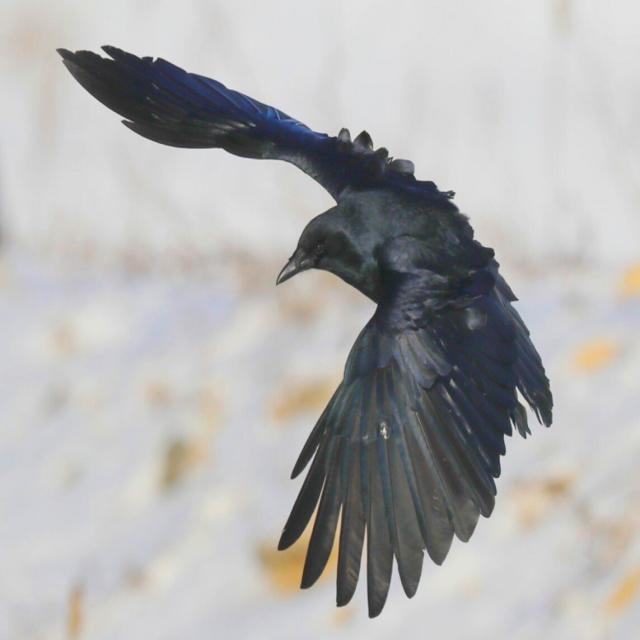crow: (59, 47, 553, 617)
